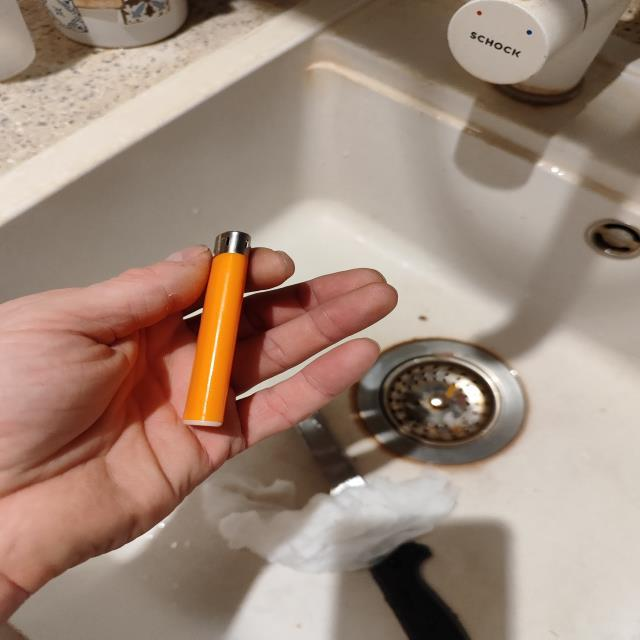lighter: (183, 231, 250, 426)
